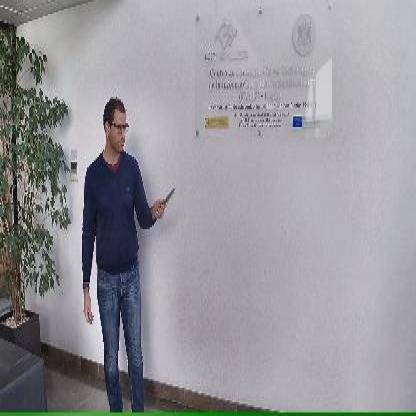knife: (154, 183, 176, 219)
